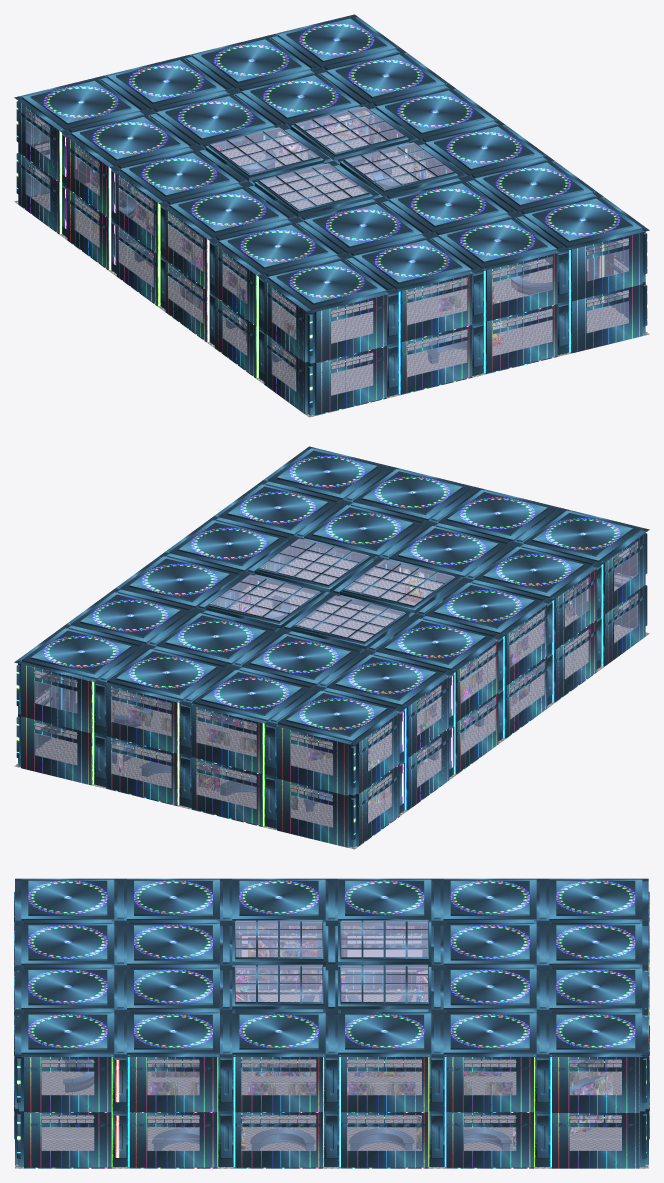
3 renders of one model, top to bottom at view 1: azimuth 30°, elevation 25°; view 2: azimuth 150°, elevation 25°; view 3: azimuth 270°, elevation 25°, orthographic. The views are drawn at different scales.
Visible parts, largest first — view 1: Ceiling, Wall1, Wall2, TeleportFloor, AssetWall2, AssetWall1, Video2; view 2: Ceiling, Wall1, Wall2, TeleportFloor, AssetWall2, AssetWall1; view 3: Ceiling, Wall1, Wall2, TeleportFloor, AssetWall2, Video1, AssetWall1, DeskA10, DeskA11, Video2, DeskA9, DeskA12 (+1 smaller).
Boxes of the visible parts, box(x1,y1,x2,y2) form: Ceiling: box(14, 14, 649, 313); Wall1: box(16, 117, 647, 415); Wall2: box(16, 16, 647, 363); TeleportFloor: box(14, 131, 649, 417); AssetWall2: box(18, 146, 621, 375); AssetWall1: box(18, 111, 571, 323); Video2: box(311, 111, 373, 137); Ceiling: box(14, 446, 649, 745); Wall1: box(16, 543, 647, 847); Wall2: box(16, 448, 647, 795); TeleportFloor: box(14, 552, 649, 849); AssetWall2: box(41, 578, 645, 807); AssetWall1: box(24, 543, 645, 755); Ceiling: box(15, 878, 648, 1056); Wall1: box(14, 934, 649, 1168); Wall2: box(14, 891, 649, 1112); TeleportFloor: box(15, 990, 648, 1168); AssetWall2: box(24, 945, 639, 1126); Video1: box(248, 937, 316, 980); AssetWall1: box(24, 1067, 637, 1070); DeskA10: box(349, 1129, 413, 1150); DeskA11: box(250, 1129, 315, 1150); Video2: box(570, 1076, 607, 1135); DeskA9: box(464, 1129, 511, 1150); DeskA12: box(152, 1129, 199, 1150).
Bounding box in the file's own units: 32.34 × 10.27 × 48.44.
Materials: 14 (13 with a texture image).
